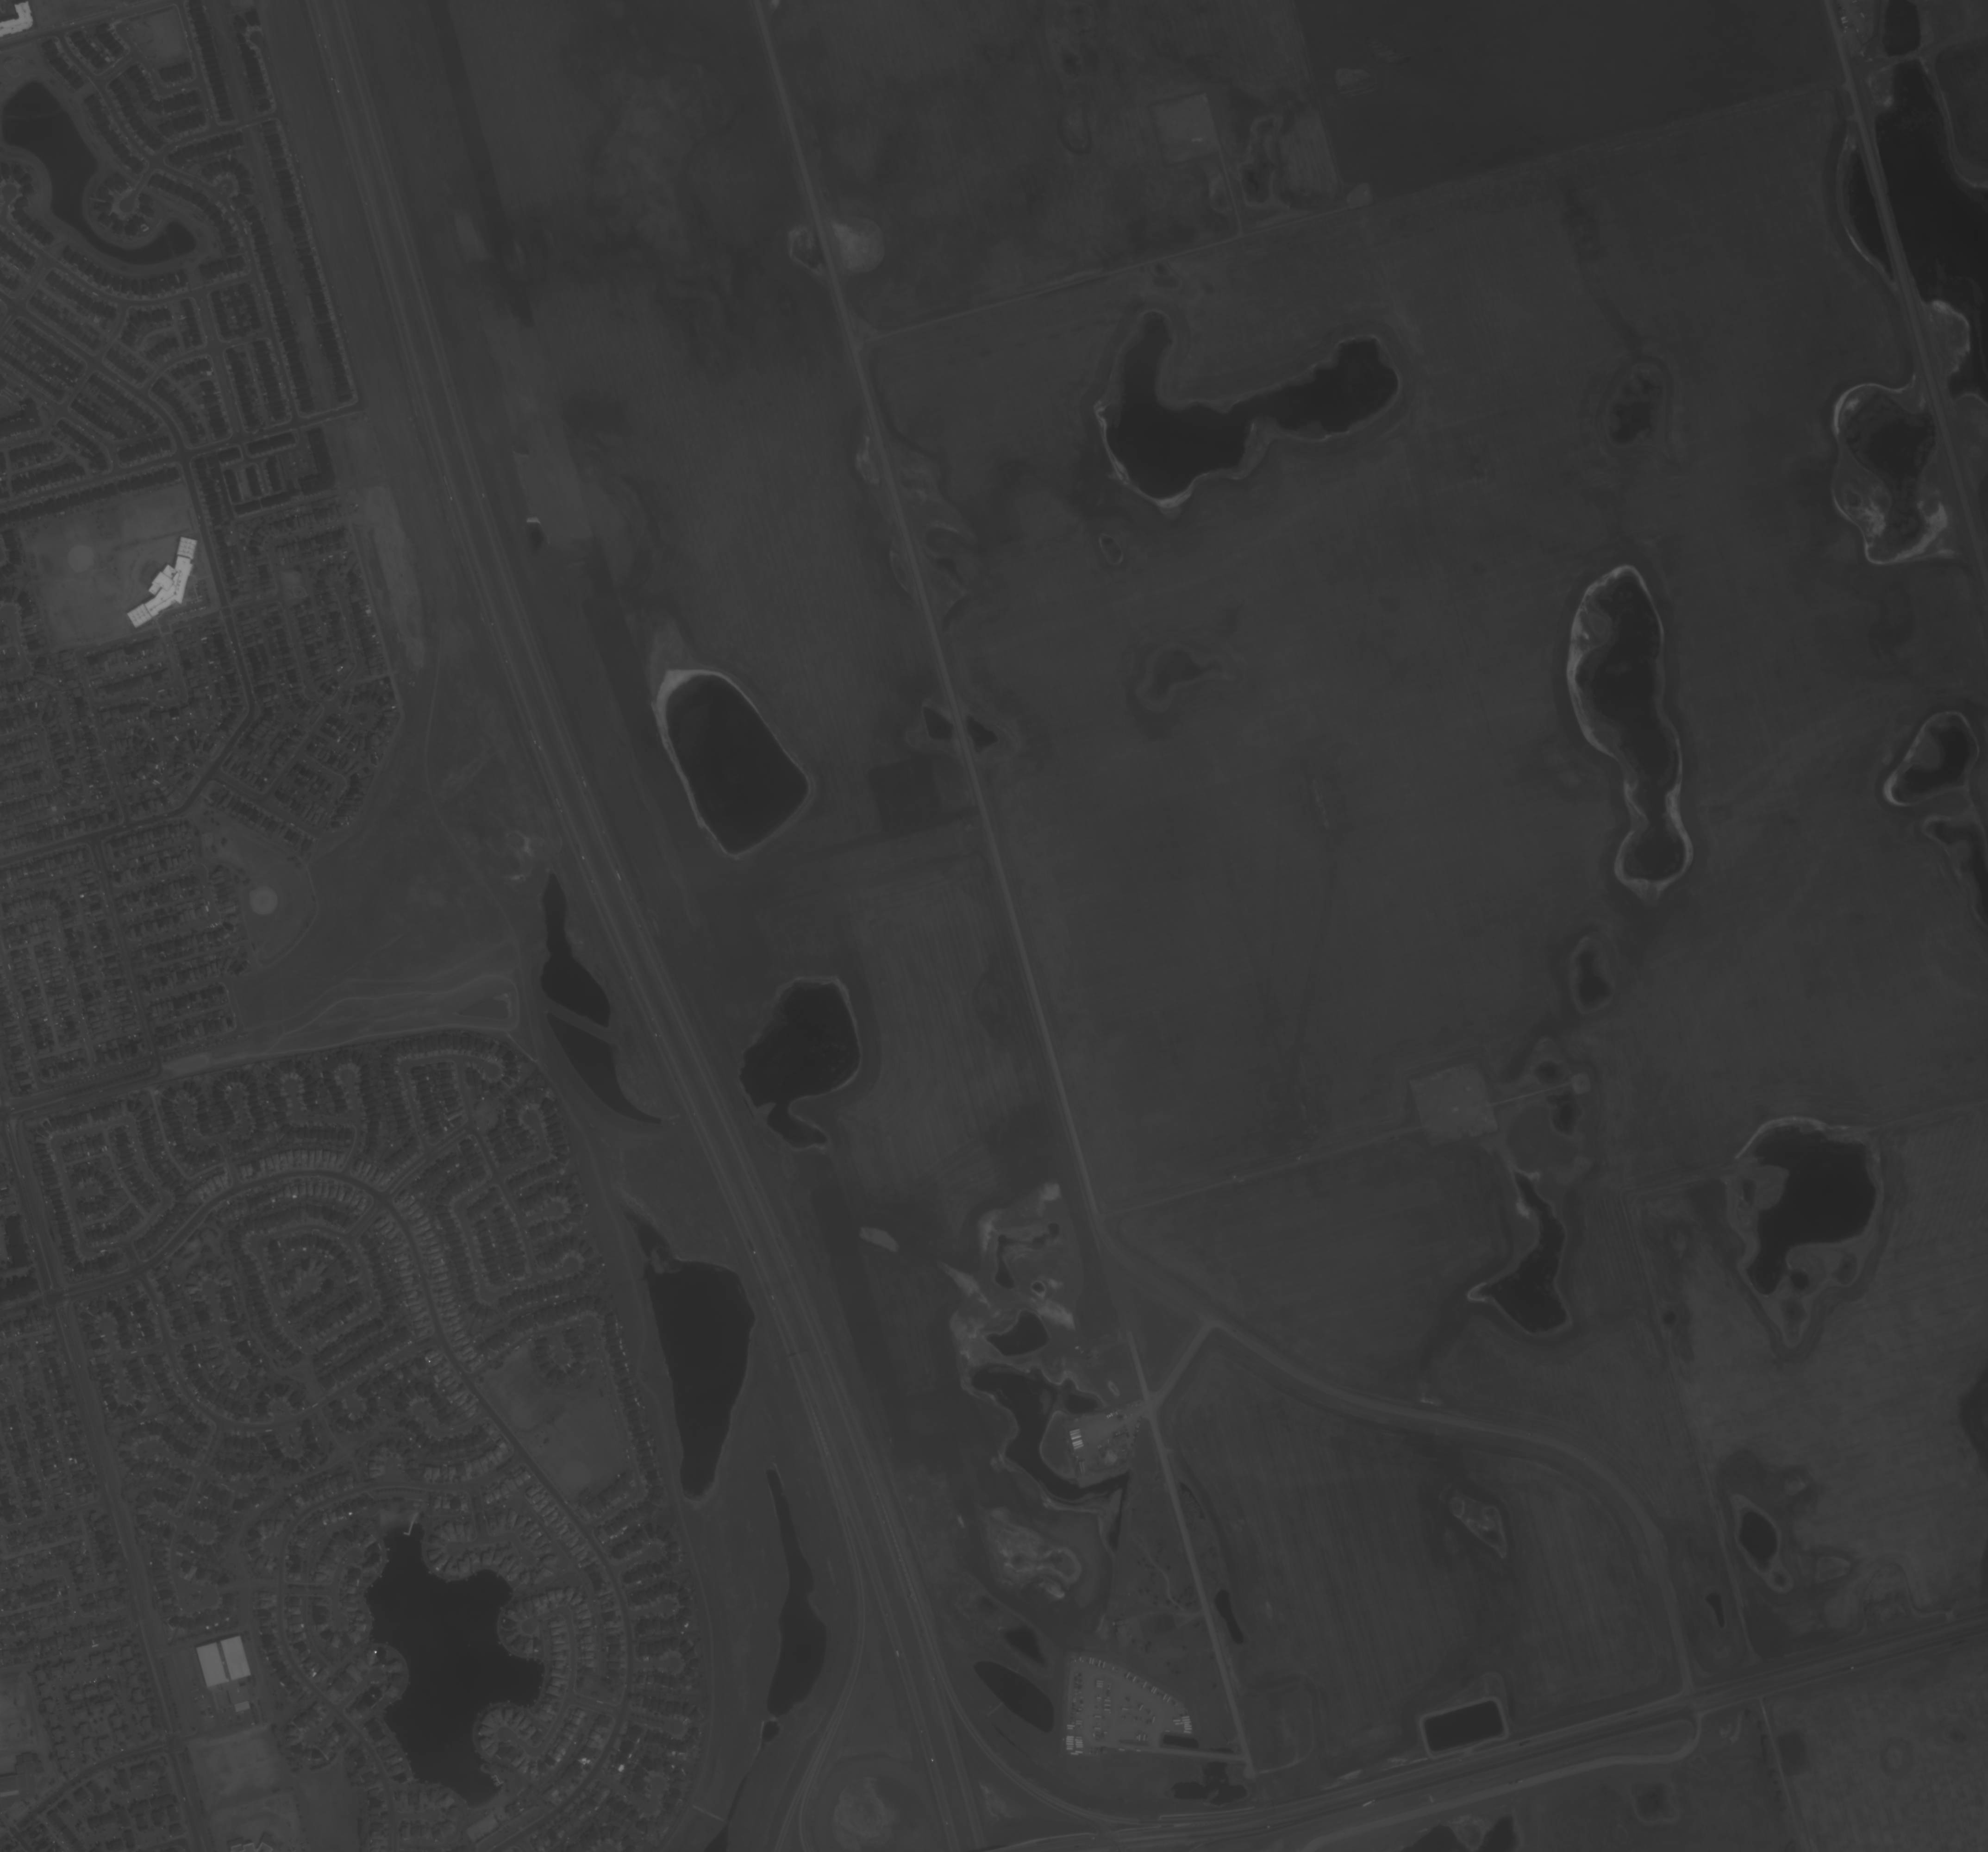baseball diamond: (242, 877, 291, 926), (54, 533, 99, 578)
bridge: (1844, 106, 1927, 319), (527, 987, 621, 1050), (1887, 47, 1927, 68)
